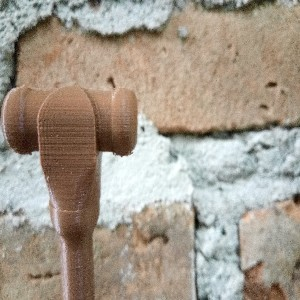palu: (1, 86, 138, 300)
